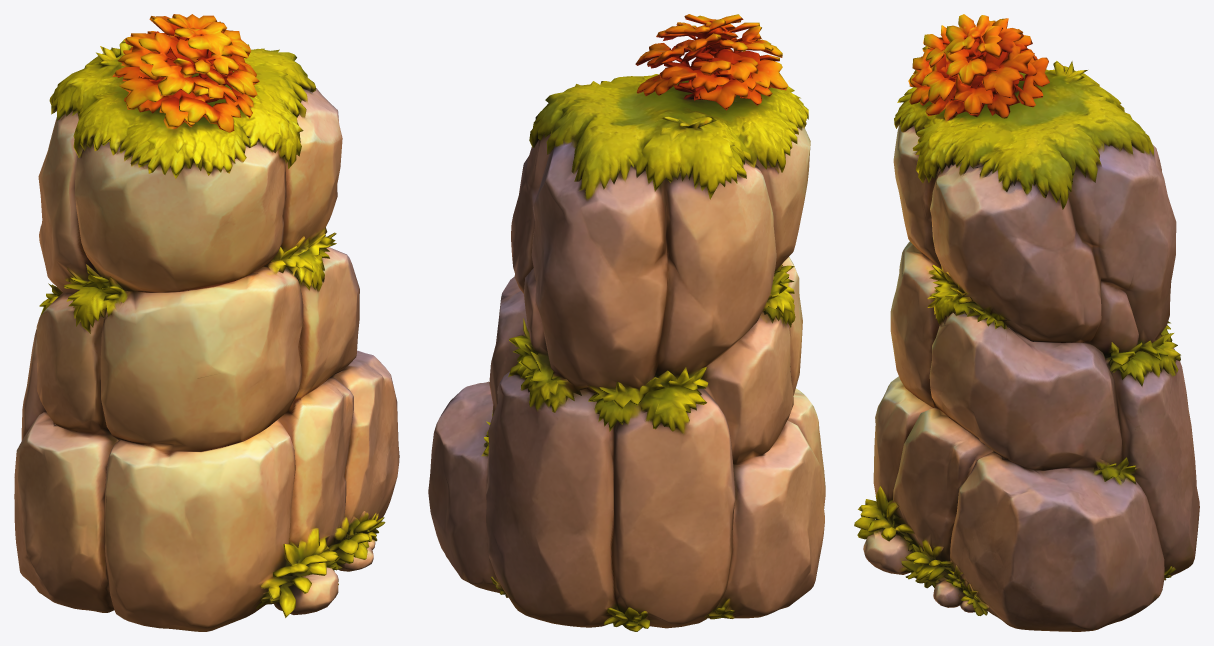
Rendered from P_Cliff_B_HD_src.glb.
The picture shows the model from 3 angles, left to right: view 1: azimuth 30°, elevation 25°; view 2: azimuth 150°, elevation 25°; view 3: azimuth 270°, elevation 25°; orthographic projection. The views are drawn at different scales.
Parts seen in each view (by area): view 1: tripo_node_f774b46a-bd04-4ed1-8124-607c612235ca; view 2: tripo_node_f774b46a-bd04-4ed1-8124-607c612235ca; view 3: tripo_node_f774b46a-bd04-4ed1-8124-607c612235ca.
Part boxes in pixels (x1,y1,x2,y2): tripo_node_f774b46a-bd04-4ed1-8124-607c612235ca: [14, 14, 399, 631]; tripo_node_f774b46a-bd04-4ed1-8124-607c612235ca: [428, 14, 825, 631]; tripo_node_f774b46a-bd04-4ed1-8124-607c612235ca: [854, 14, 1199, 631].
Bounding box in the file's own units: 0.6522 × 0.9799 × 0.5934.
Materials: 1 (1 with a texture image).
